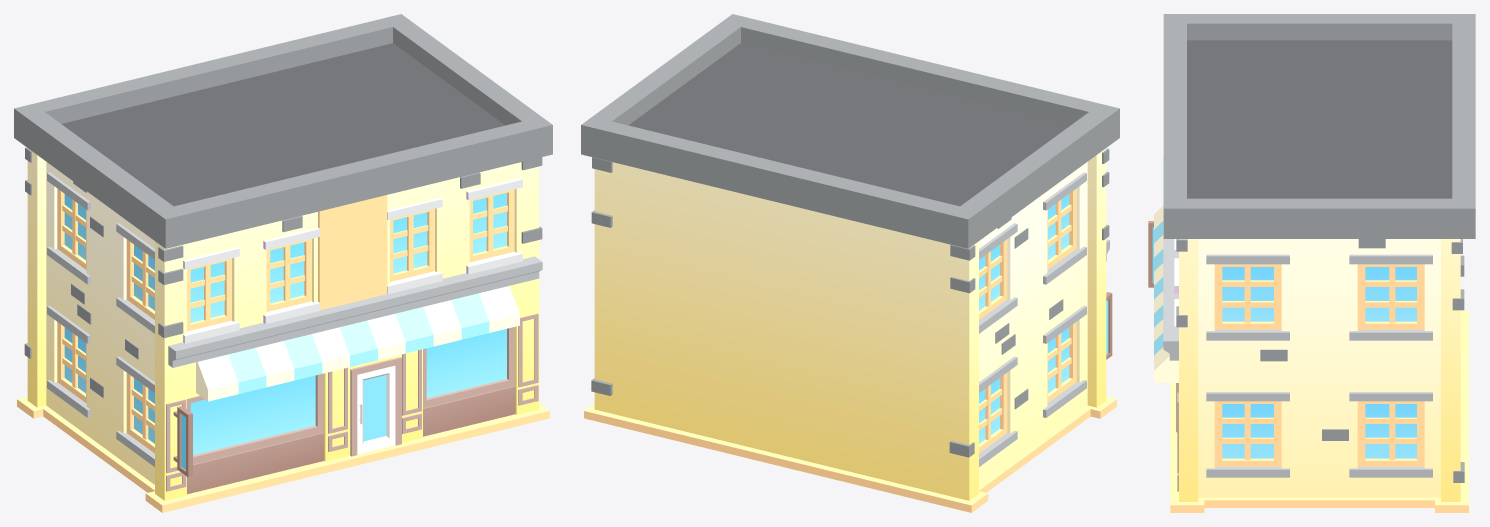
File: city2-building-living-28.glb
The picture shows the model from 3 angles, left to right: view 1: azimuth 30°, elevation 25°; view 2: azimuth 150°, elevation 25°; view 3: azimuth 270°, elevation 25°; orthographic projection. The views are drawn at different scales.
Visible parts, largest first — view 1: Building_Living_28; view 2: Building_Living_28; view 3: Building_Living_28.
Part boxes in pixels (x1,y1,x2,y2): Building_Living_28: (14,14,552,512); Building_Living_28: (581,14,1119,512); Building_Living_28: (1148,14,1475,512).
Size of the model in its own units: 10.86 by 7.92 by 7.72.
Materials: 1 (1 with a texture image).
